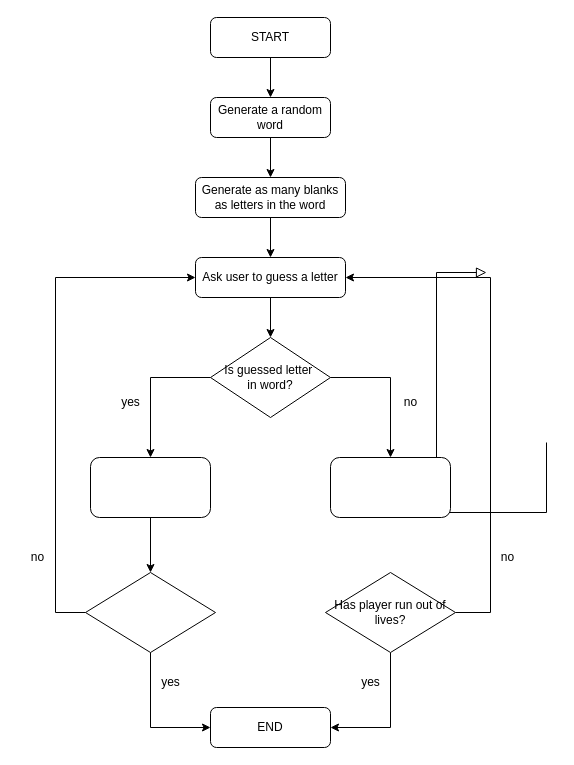
Some shapes in this 574 by 765 pixel diagram are drawn without their labels. The shapes that lost their labels are listed below. From the top down, each one's centre as x and y in pixels, then its label:
At [150,487]: "Replace blank(s) with letter".
At [390,487]: "Draw next part of hangman".
At [150,612]: "All letters in word guessed?".
